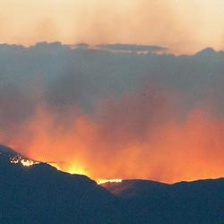fire: (27, 157, 115, 187)
smoke: (36, 66, 224, 137)
